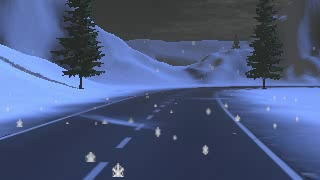Lane: (0, 86, 301, 179)
